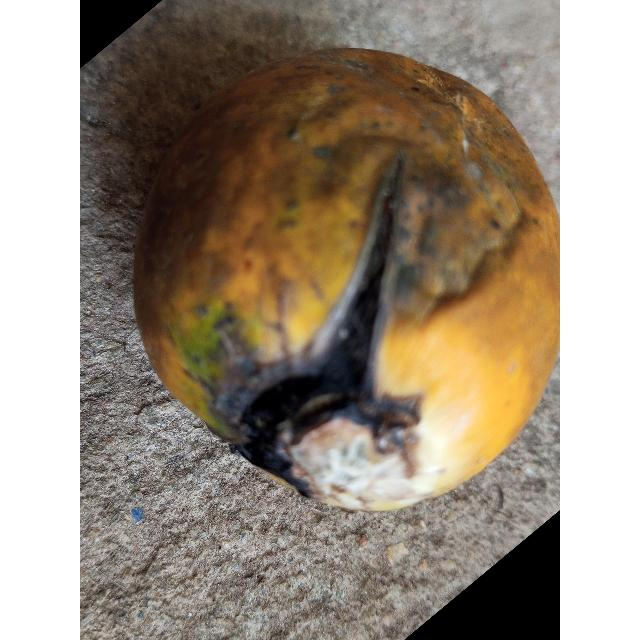damaged: (131, 46, 560, 515)
